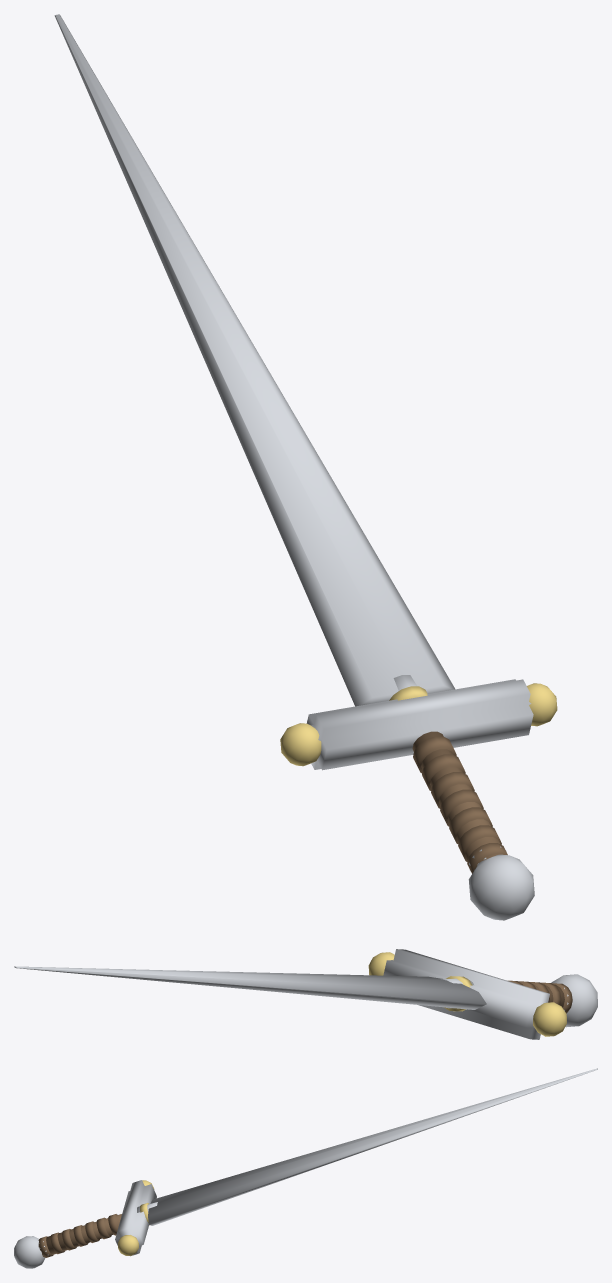
Rendered from sword.glb.
3 renders of one model, top to bottom at view 1: azimuth 30°, elevation 25°; view 2: azimuth 150°, elevation 25°; view 3: azimuth 270°, elevation 25°, orthographic. The views are drawn at different scales.
Visible parts, largest first — view 1: sword; view 2: sword; view 3: sword.
Boxes of the visible parts, x1,y1,x2,y2 form: sword: (54,14,557,920); sword: (14,949,597,1039); sword: (14,1068,597,1268).
Size of the model in its own units: 0.9973 by 1.7 by 3.95.
